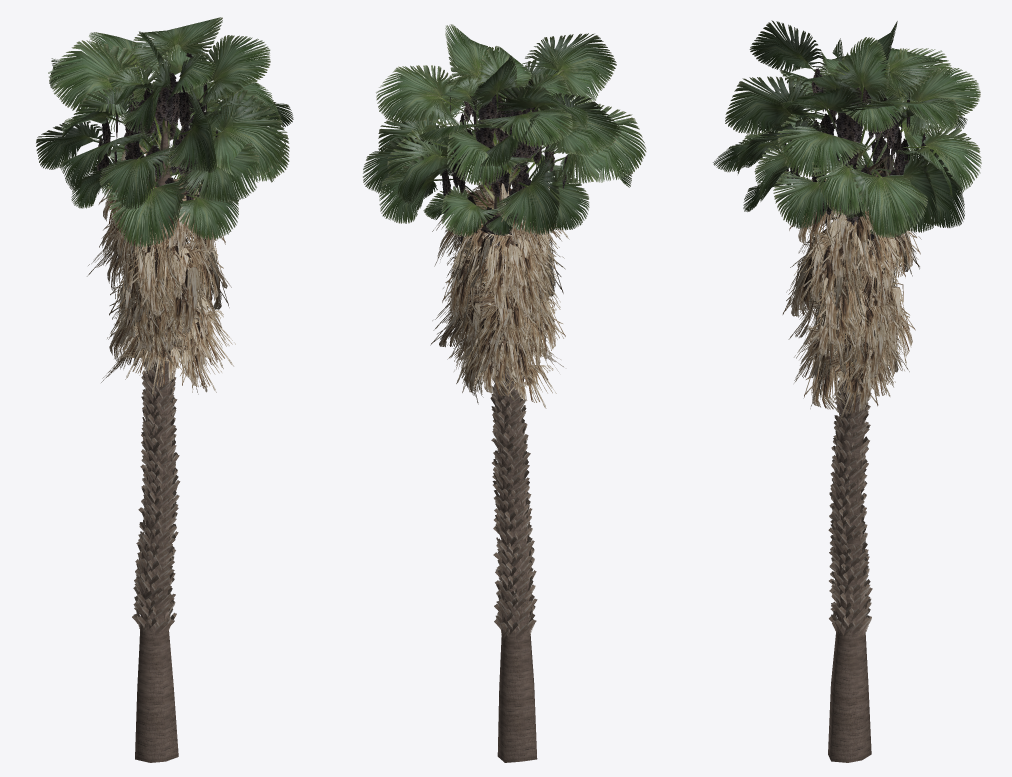
Rendered from Washingtonia_Filifera_Autumn_Adult.glb.
3 renders of one model, left to right at view 1: azimuth 30°, elevation 25°; view 2: azimuth 150°, elevation 25°; view 3: azimuth 270°, elevation 25°, orthographic.
Parts seen in each view (by area): view 1: Washingtonia_Filifera_Autumn_Adult__LOD3; view 2: Washingtonia_Filifera_Autumn_Adult__LOD3; view 3: Washingtonia_Filifera_Autumn_Adult__LOD3.
Part boxes in pixels (x1,y1,x2,y2): Washingtonia_Filifera_Autumn_Adult__LOD3: (36,17,293,762); Washingtonia_Filifera_Autumn_Adult__LOD3: (363,24,646,762); Washingtonia_Filifera_Autumn_Adult__LOD3: (713,20,981,762).
Size of the model in its own units: 6.97 by 18.09 by 6.67.
3 materials, 3 textured.
